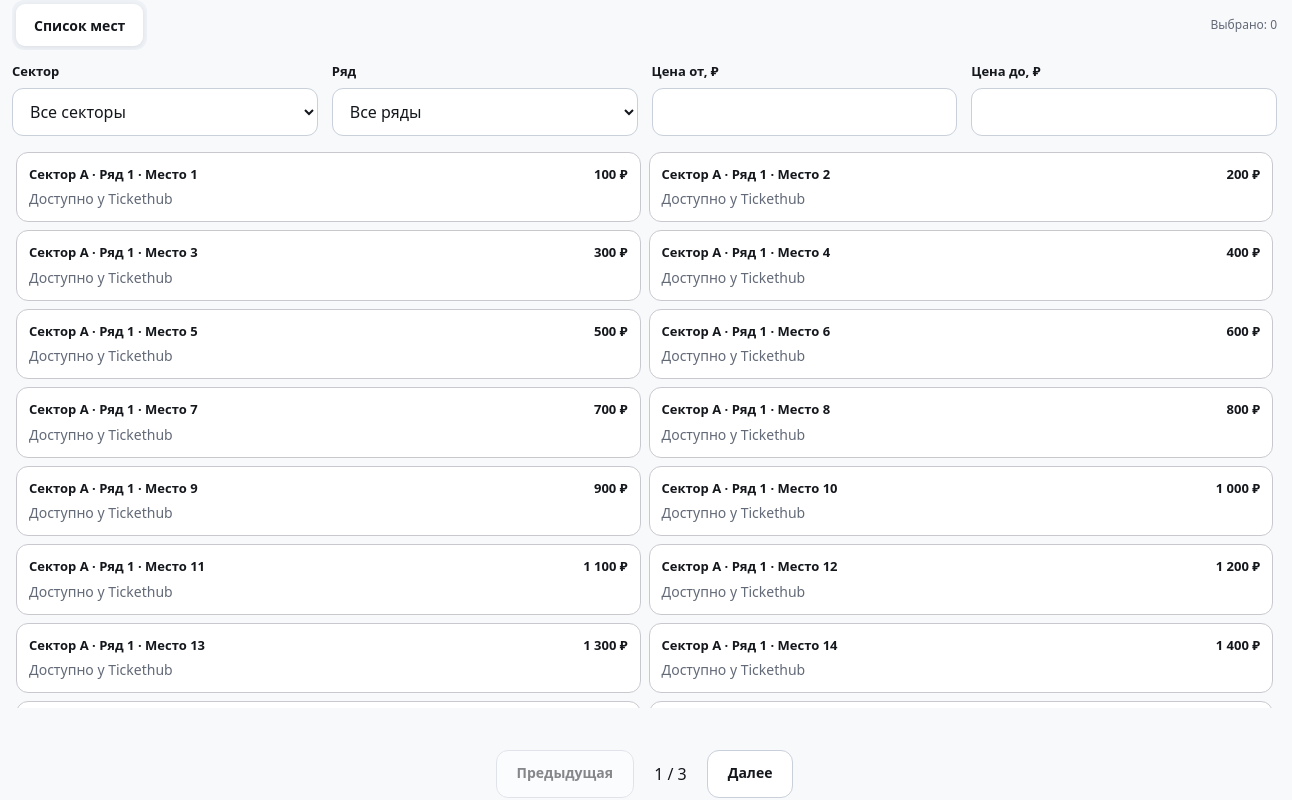
Test: accessible list remains an alternative to the canvas › filters by price and does not render an entire 50,000-seat list at once
Type "17900" into the number field labelled "Цена от, ₽" at (804, 112), box x1=652 y1=88 x2=957 y2=136
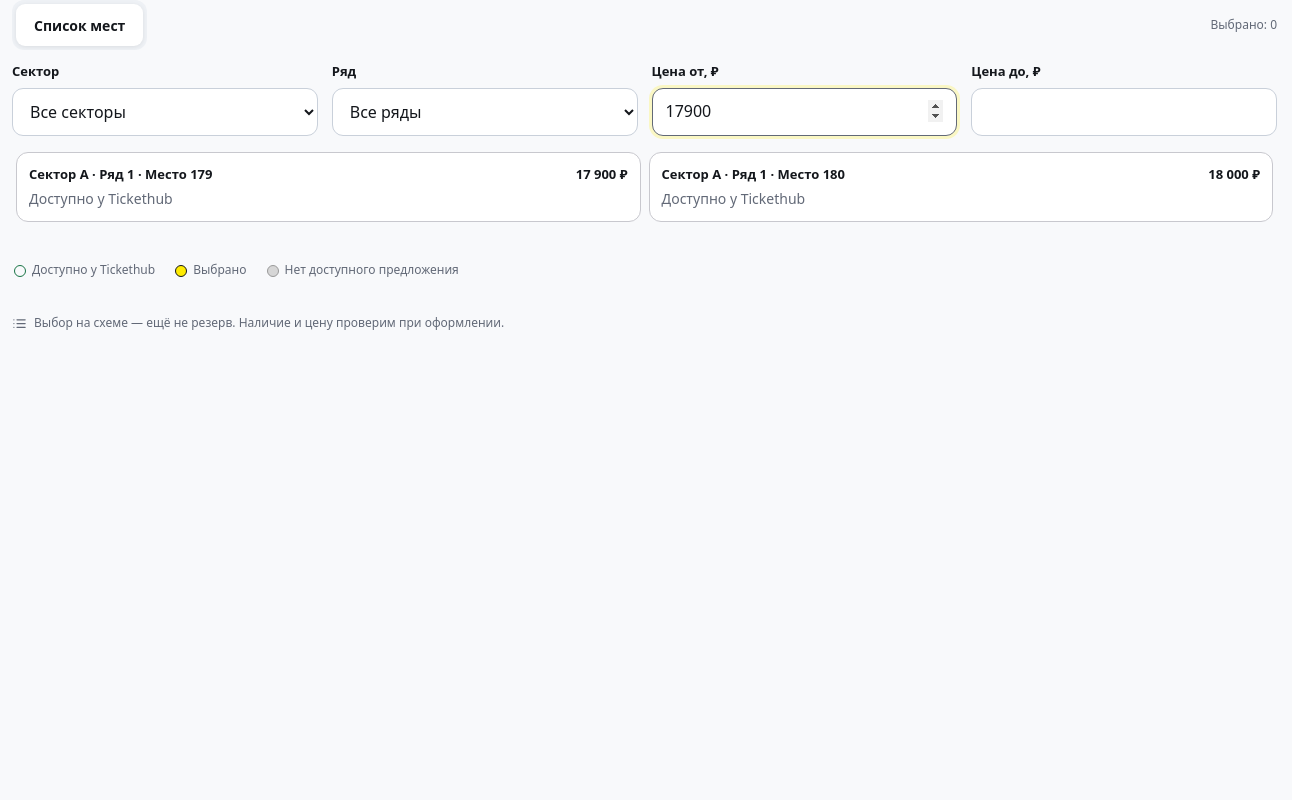
Expected: the number of buttons "Сектор A · Ряд 1 · Место 179 Доступно у Tickethub 17 900 ₽" is 2, x1=16 y1=152 x2=640 y2=222; x1=648 y1=152 x2=1273 y2=222
